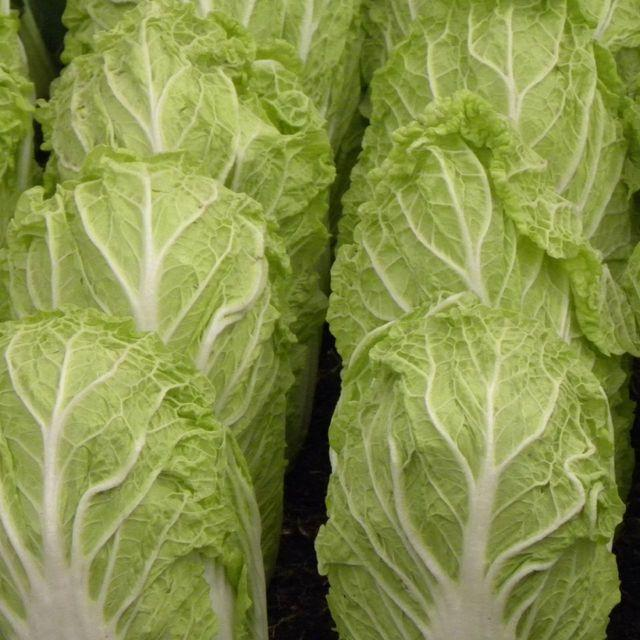cabbage: (321, 309, 640, 640), (0, 152, 330, 434), (0, 309, 281, 640), (355, 96, 640, 398), (46, 0, 360, 198), (375, 0, 640, 166)
